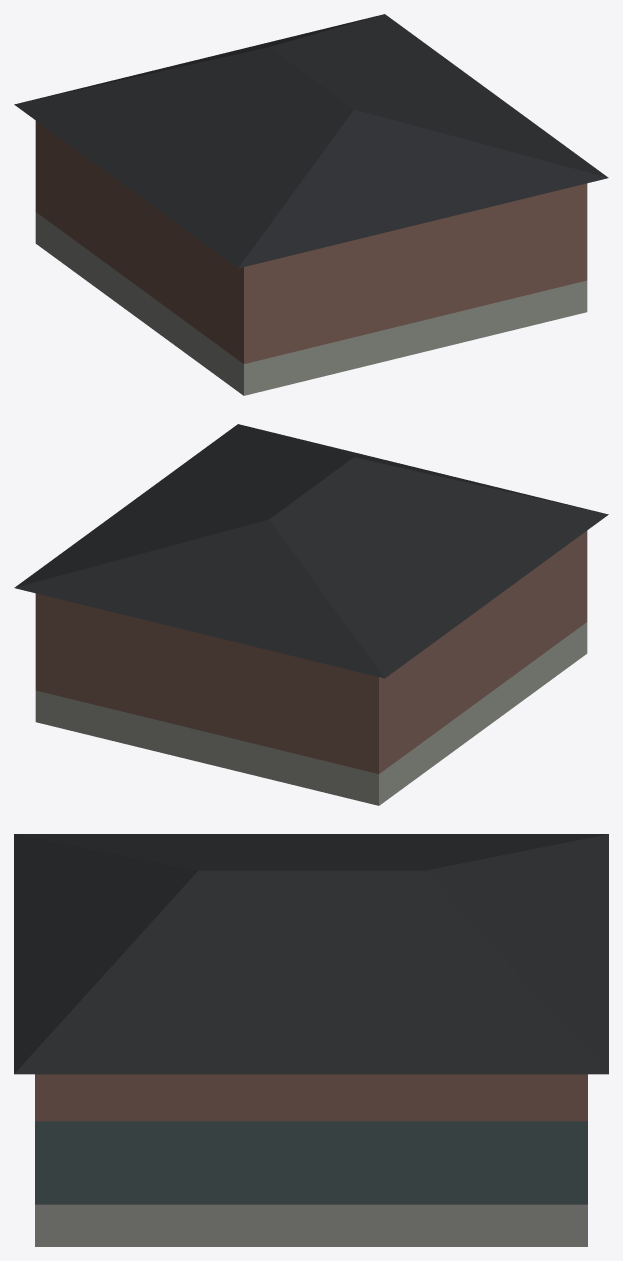
Rendered from far.fbx.
3 renders of one model, top to bottom at view 1: azimuth 30°, elevation 25°; view 2: azimuth 150°, elevation 25°; view 3: azimuth 270°, elevation 25°, orthographic. The views are drawn at different scales.
Visible parts, largest first — view 1: a2000s2/800/far; view 2: a2000s2/800/far; view 3: a2000s2/800/far.
Part boxes in pixels (x1,y1,x2,y2): a2000s2/800/far: [14, 14, 608, 395]; a2000s2/800/far: [14, 424, 608, 805]; a2000s2/800/far: [14, 834, 608, 1246].
Size of the model in its own units: 10.8 by 5.55 by 11.3.
